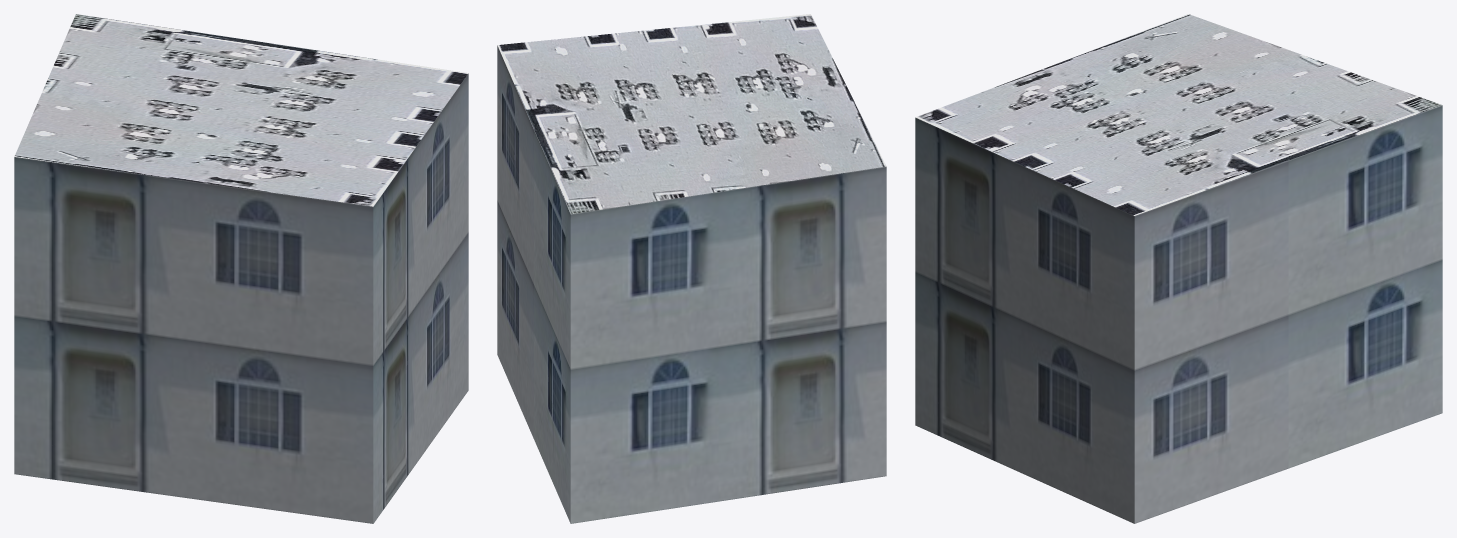
The model's file is ResTex__3499.fbx.
3 views of the same model, side by side, from view 1: azimuth 30°, elevation 25°; view 2: azimuth 150°, elevation 25°; view 3: azimuth 270°, elevation 25° (orthographic). The views are drawn at different scales.
Visible parts, largest first — view 1: CityEngineMaterial_17_m, CityEngineMaterial_8_m; view 2: CityEngineMaterial_17_m, CityEngineMaterial_8_m; view 3: CityEngineMaterial_17_m, CityEngineMaterial_8_m.
Boxes of the visible parts, x1,y1,x2,y2 form: CityEngineMaterial_17_m: [14, 73, 468, 523]; CityEngineMaterial_8_m: [14, 14, 468, 206]; CityEngineMaterial_17_m: [497, 45, 886, 523]; CityEngineMaterial_8_m: [497, 14, 886, 214]; CityEngineMaterial_17_m: [915, 105, 1442, 523]; CityEngineMaterial_8_m: [915, 14, 1442, 215].
Size of the model in its own units: 8.44 by 6 by 9.32.
2 materials, 2 textured.
